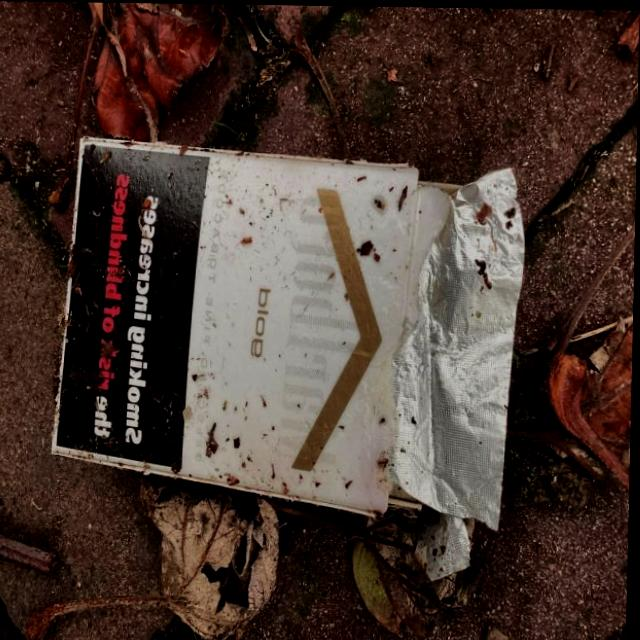Paper: (46, 129, 534, 586)
